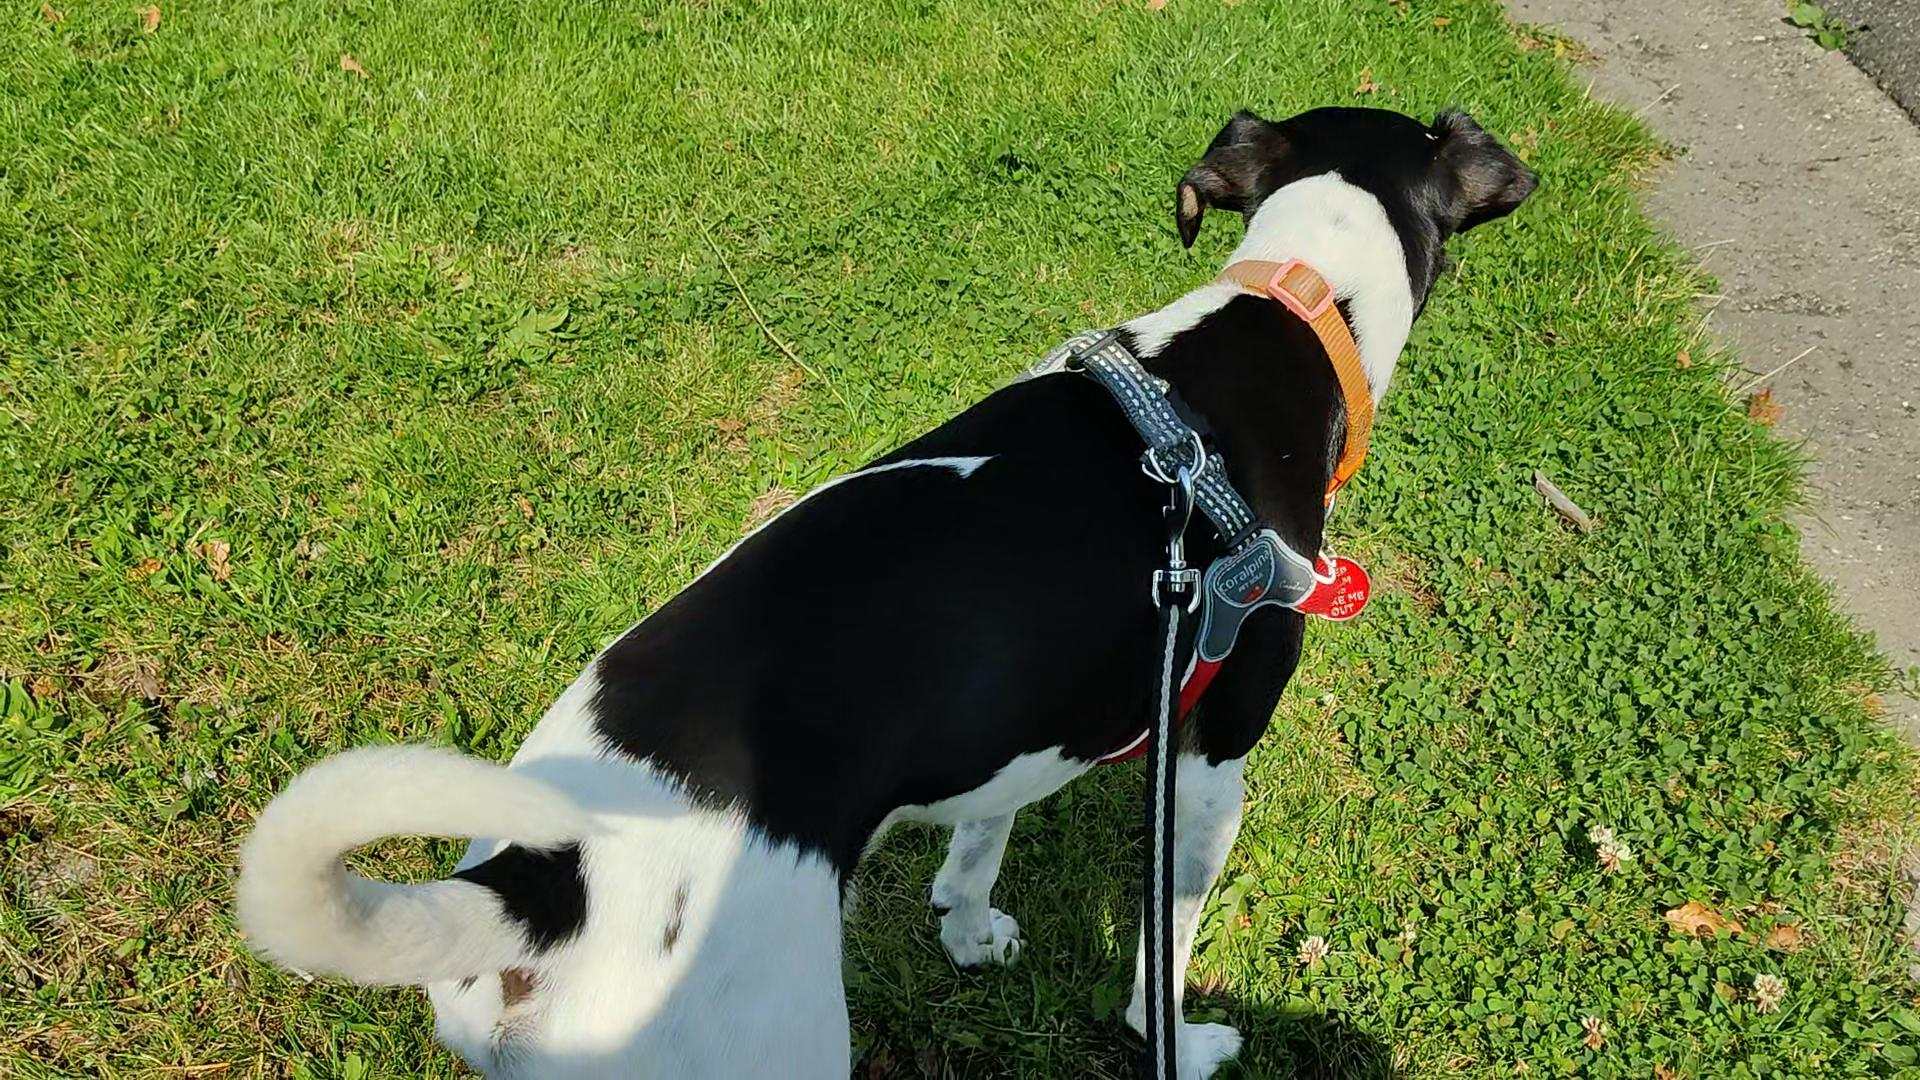Dog: (214, 95, 1549, 1077)
